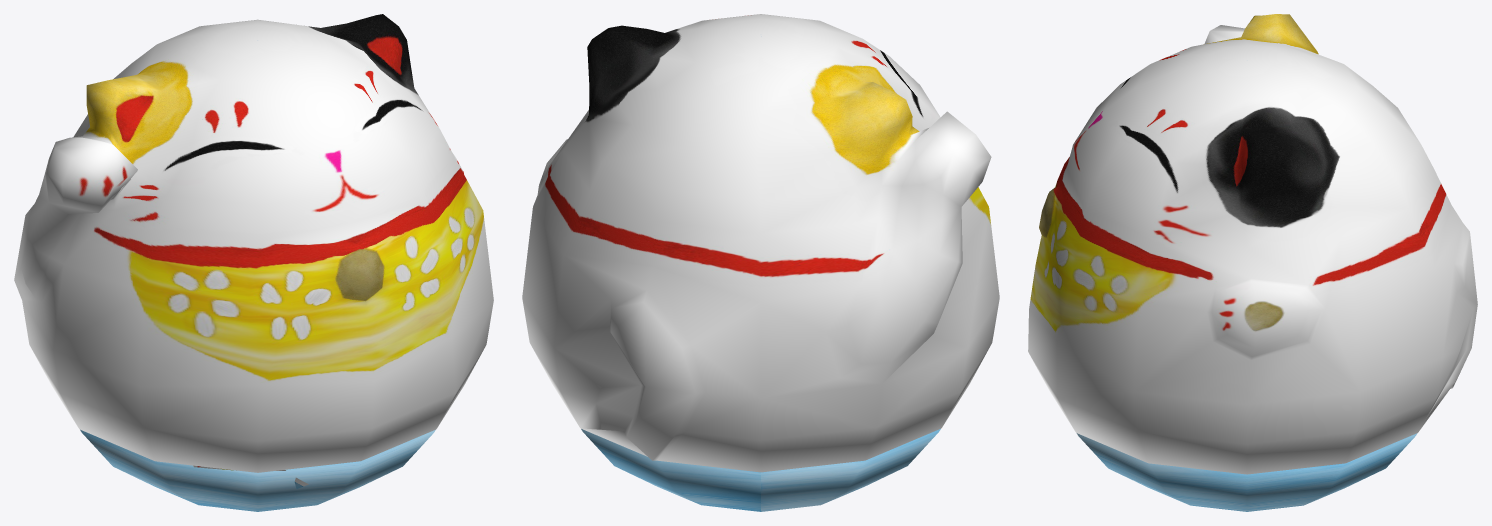
File: cat_murakami.fbx
3 renders of one model, left to right at view 1: azimuth 30°, elevation 25°; view 2: azimuth 150°, elevation 25°; view 3: azimuth 270°, elevation 25°, orthographic. The views are drawn at different scales.
Parts seen in each view (by area): view 1: Lucky cat maneki neko; view 2: Lucky cat maneki neko; view 3: Lucky cat maneki neko.
Boxes of the visible parts, bbox=[...] form: Lucky cat maneki neko: bbox=[14, 14, 493, 511]; Lucky cat maneki neko: bbox=[522, 14, 999, 511]; Lucky cat maneki neko: bbox=[1028, 14, 1477, 511].
Size of the model in its own units: 5.33 by 5.47 by 5.2.
1 material, 1 textured.
